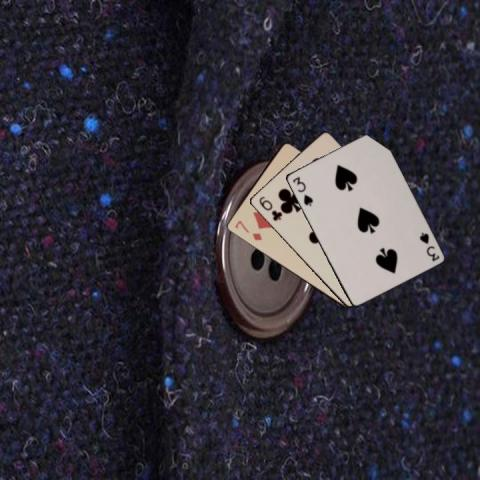3s: (416, 229, 441, 263), (289, 174, 314, 207)
6c: (256, 193, 283, 223)
7d: (232, 217, 263, 242)
